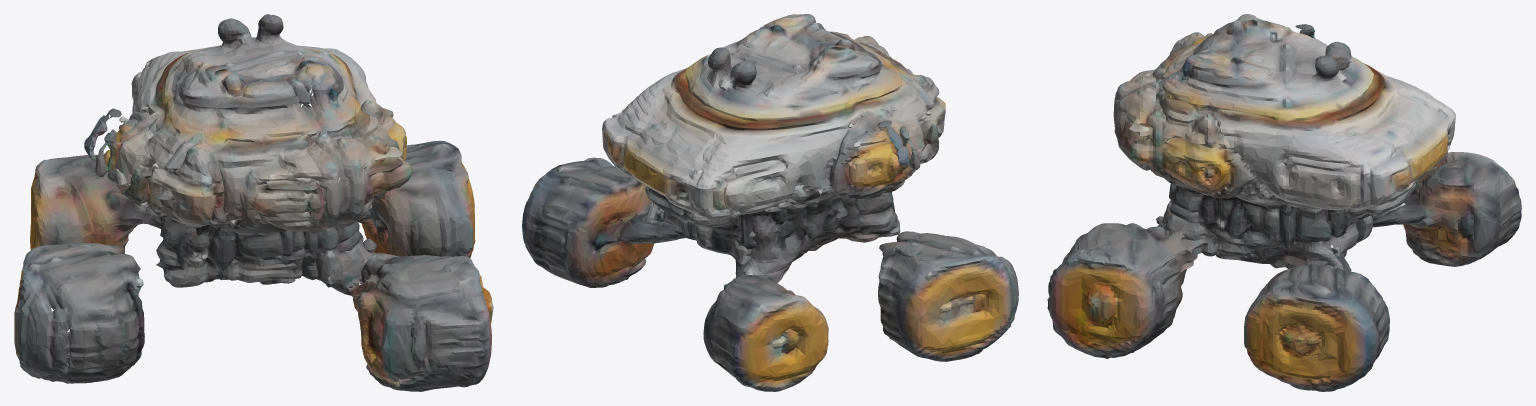
Rendered from room-06-survey-rover.glb.
The picture shows the model from 3 angles, left to right: view 1: azimuth 30°, elevation 25°; view 2: azimuth 150°, elevation 25°; view 3: azimuth 270°, elevation 25°; orthographic projection. The views are drawn at different scales.
Parts seen in each view (by area): view 1: world; view 2: world; view 3: world.
Boxes of the visible parts, x1=… form: world: x1=14, y1=14, x2=493, y2=391; world: x1=522, y1=14, x2=1018, y2=391; world: x1=1047, y1=14, x2=1521, y2=391.
Bounding box in the file's own units: 1.07 × 0.6254 × 0.9987.
